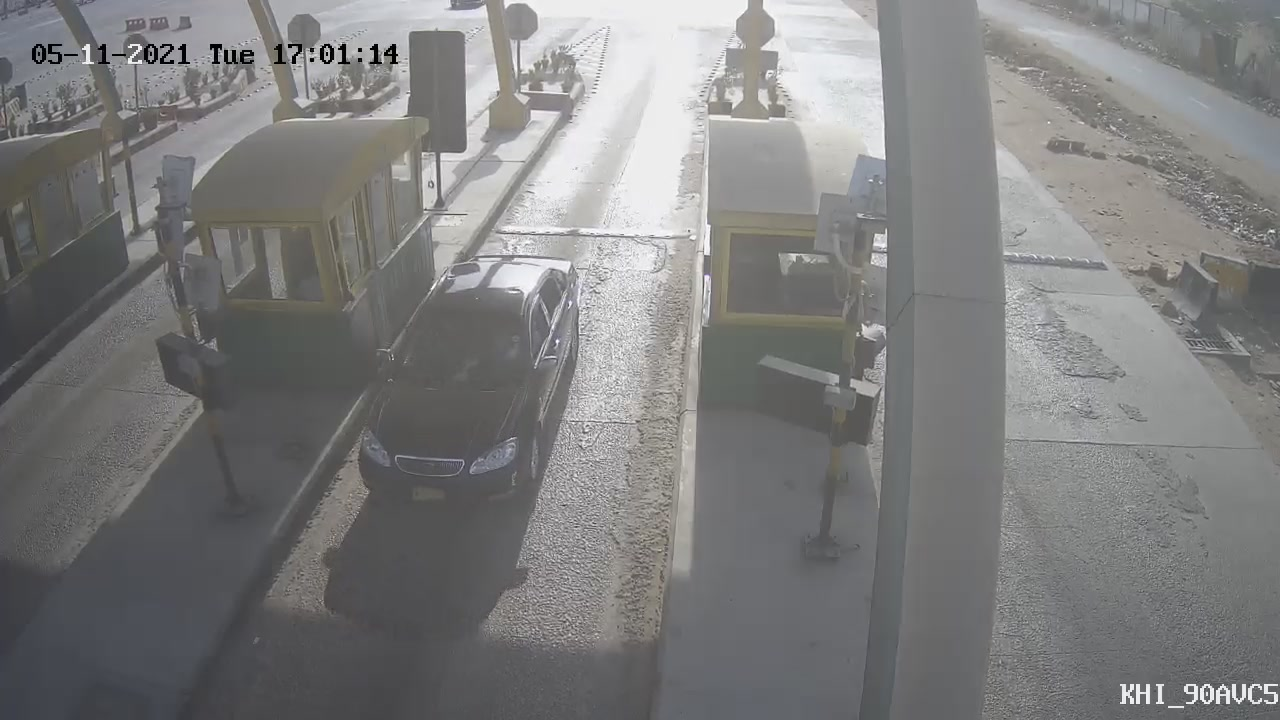F1: (330, 229, 596, 534)
